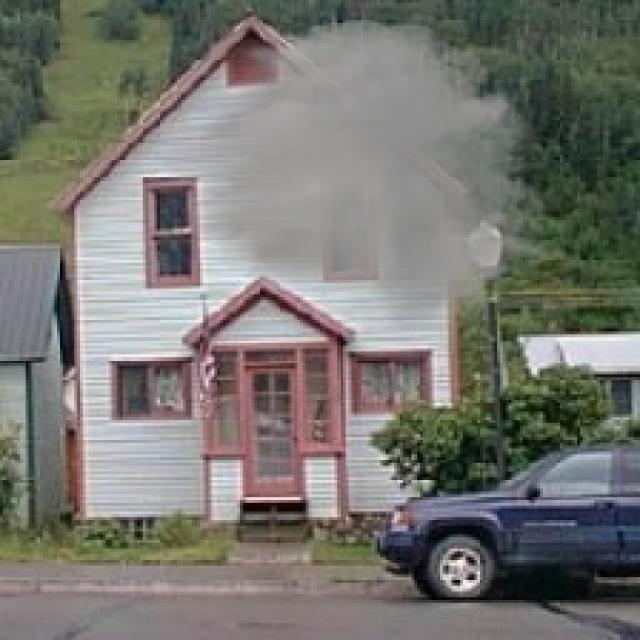Smoke: (140, 11, 566, 360)
